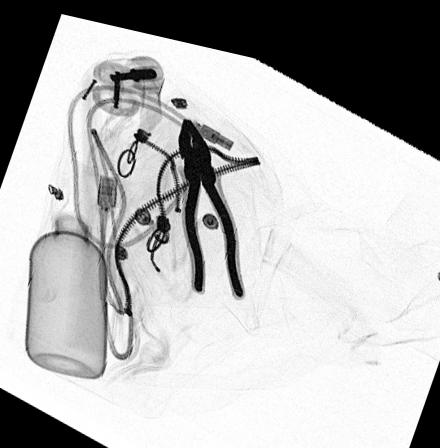Pliers: (175, 108, 246, 289)
